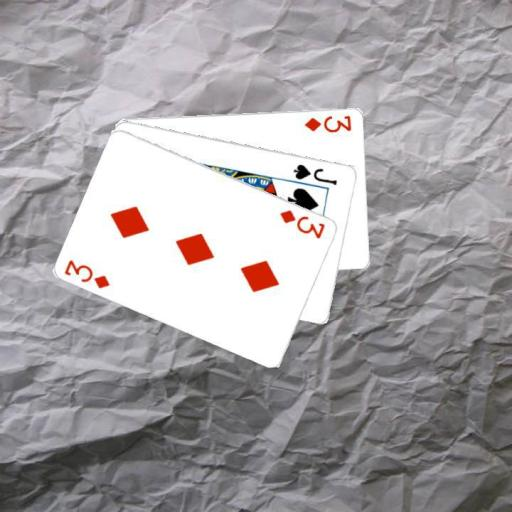3D: (61, 256, 112, 290), (277, 207, 327, 241), (302, 112, 353, 134)
JS: (290, 161, 339, 186)
